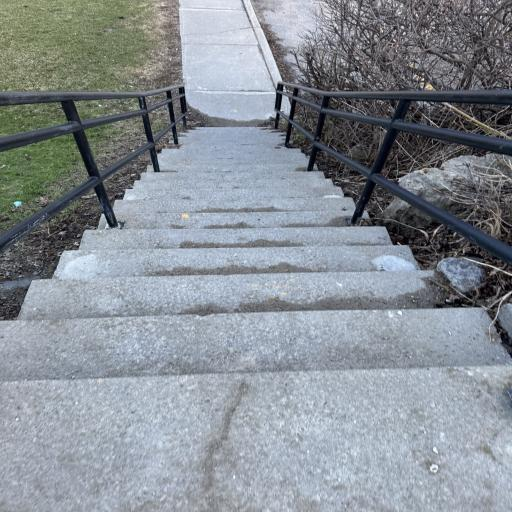Stairs: (0, 127, 512, 512)
